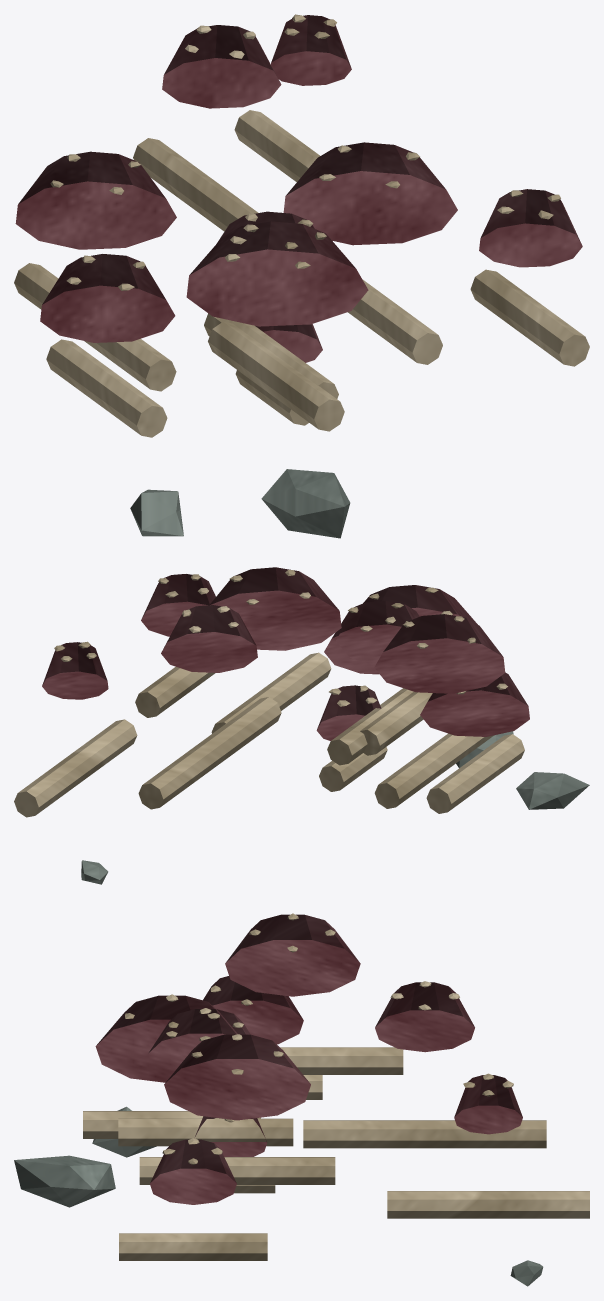
Rendered from 0202_mushroom_patch_02.glb.
3 views of the same model, one above another, from view 1: azimuth 30°, elevation 25°; view 2: azimuth 150°, elevation 25°; view 3: azimuth 270°, elevation 25° (orthographic). The views are drawn at different scales.
Parts seen in each view (by area): view 1: cloth, bone, stone; view 2: cloth, bone, stone; view 3: cloth, bone, stone.
Boxes of the visible parts, x1,y1,x2,y2 form: cloth: (15, 15, 582, 362); bone: (14, 14, 589, 437); stone: (130, 469, 350, 538); cloth: (42, 567, 529, 740); bone: (14, 570, 524, 817); stone: (81, 731, 589, 884); cloth: (95, 914, 522, 1204); bone: (83, 913, 589, 1260); stone: (14, 1106, 543, 1286).
Bounding box in the file's own units: 1.93 × 1.14 × 2.33.
Materials: 3 (3 with a texture image).
